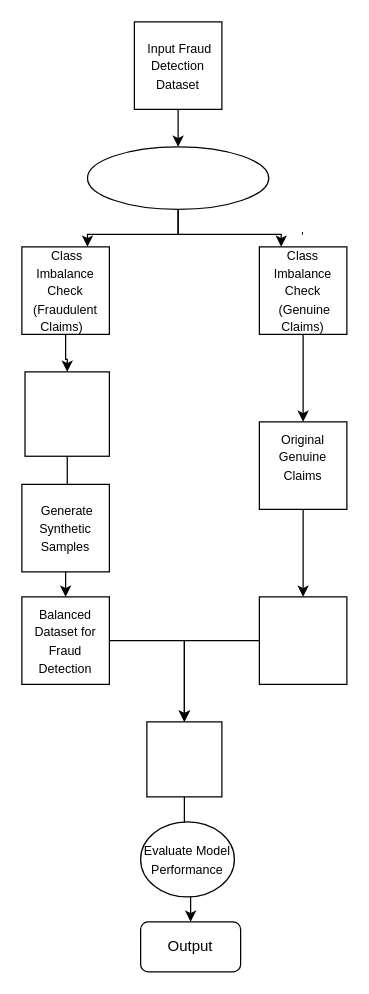
This 369x994 diagram has some shape labels left out. The centre of each missing label's shape, as x and y in pixels:
"Apply SMOTE Algorithm" belongs at (66,413).
"Balanced Dataset" belongs at (302,640).
"Preprocessing for Fraud Detection" belongs at (177,177).
"Train Fraud Detection Model" belongs at (184,759).
